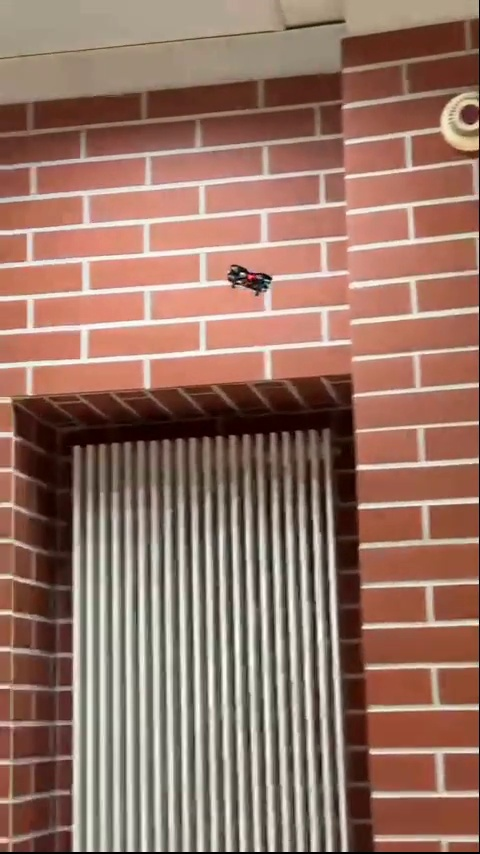drone: (221, 260, 269, 297)
